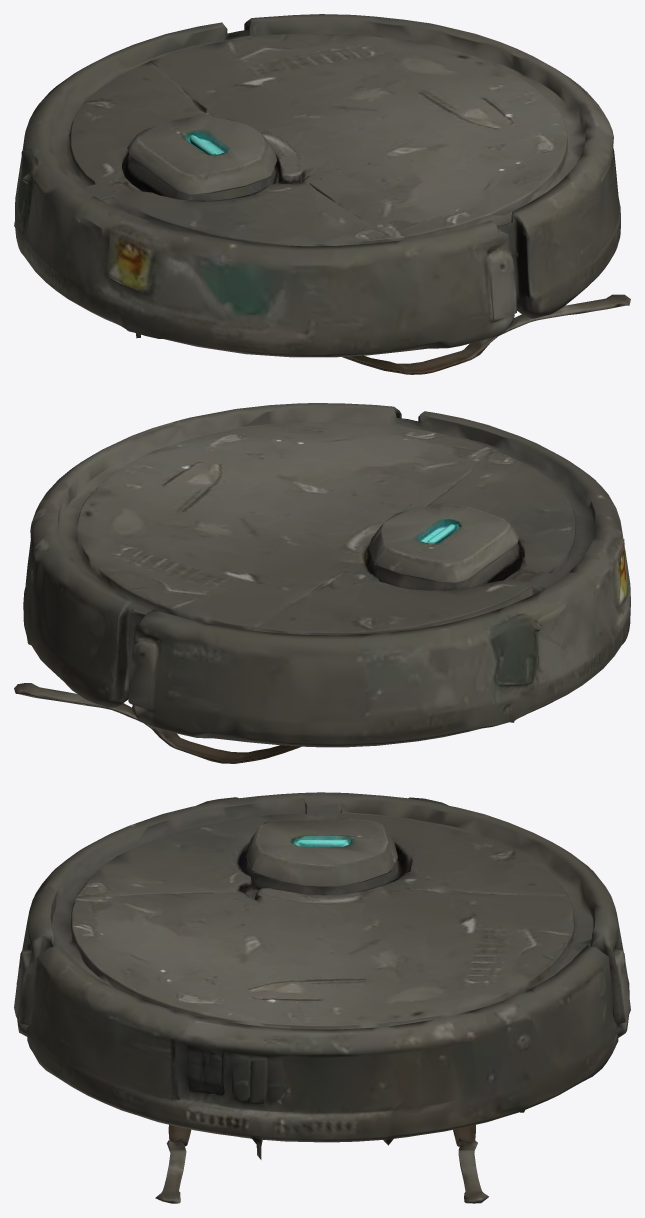
Rendered from robot.glb.
The picture shows the model from 3 angles, top to bottom: view 1: azimuth 30°, elevation 25°; view 2: azimuth 150°, elevation 25°; view 3: azimuth 270°, elevation 25°; orthographic projection.
Parts seen in each view (by area): view 1: tripo_node_bf499ed0-3b7b-4e2a-8444-3165efb017f7; view 2: tripo_node_bf499ed0-3b7b-4e2a-8444-3165efb017f7; view 3: tripo_node_bf499ed0-3b7b-4e2a-8444-3165efb017f7.
Part boxes in pixels (<box>): tripo_node_bf499ed0-3b7b-4e2a-8444-3165efb017f7: <box>14,14,630,374</box>; tripo_node_bf499ed0-3b7b-4e2a-8444-3165efb017f7: <box>14,403,630,763</box>; tripo_node_bf499ed0-3b7b-4e2a-8444-3165efb017f7: <box>14,792,630,1203</box>.
Size of the model in its own units: 0.9988 by 0.3853 by 1.
1 material, 1 textured.
